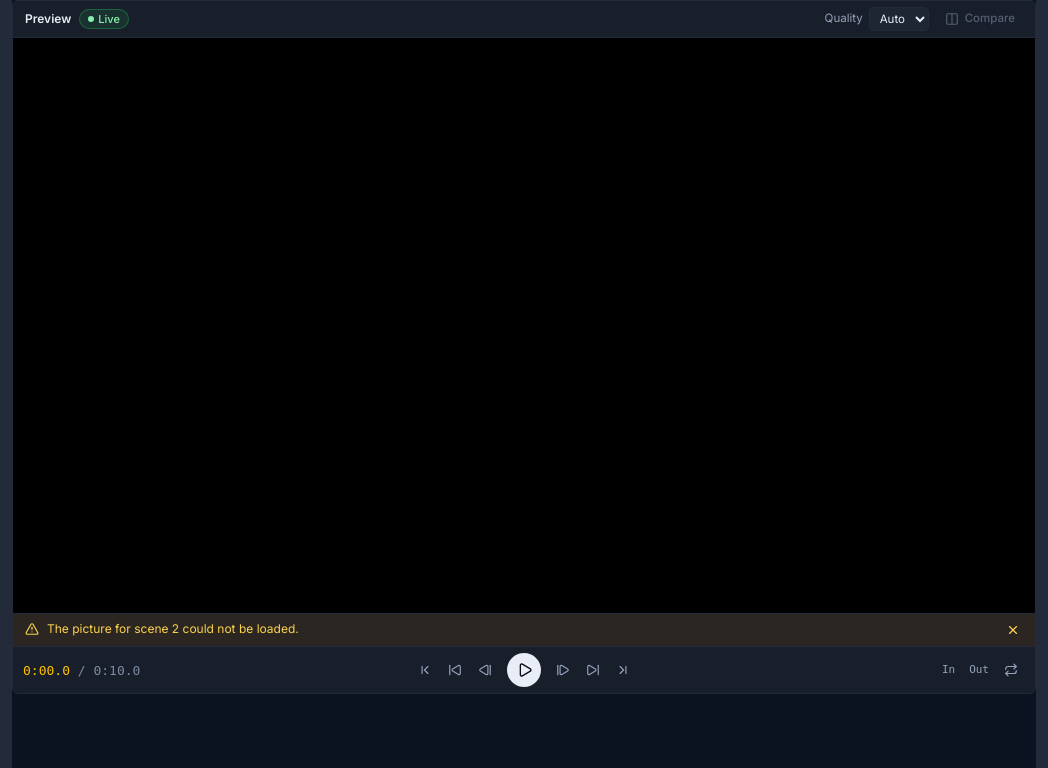
Test: LivePreview › shows a problem met while drawing under the picture, until it is hidden
This screenshot has width=1048, height=768.
Check: the message reads "The picture for scene 2 could not be loaded.", box [47, 621, 299, 636]
Check: the button named "Play" is enabled, box [507, 653, 541, 687]
What coordinates should you click on to do the following:
click the button named "Hide this message"
I would click on:
 (1013, 630)
Its box is [1003, 620, 1023, 640].
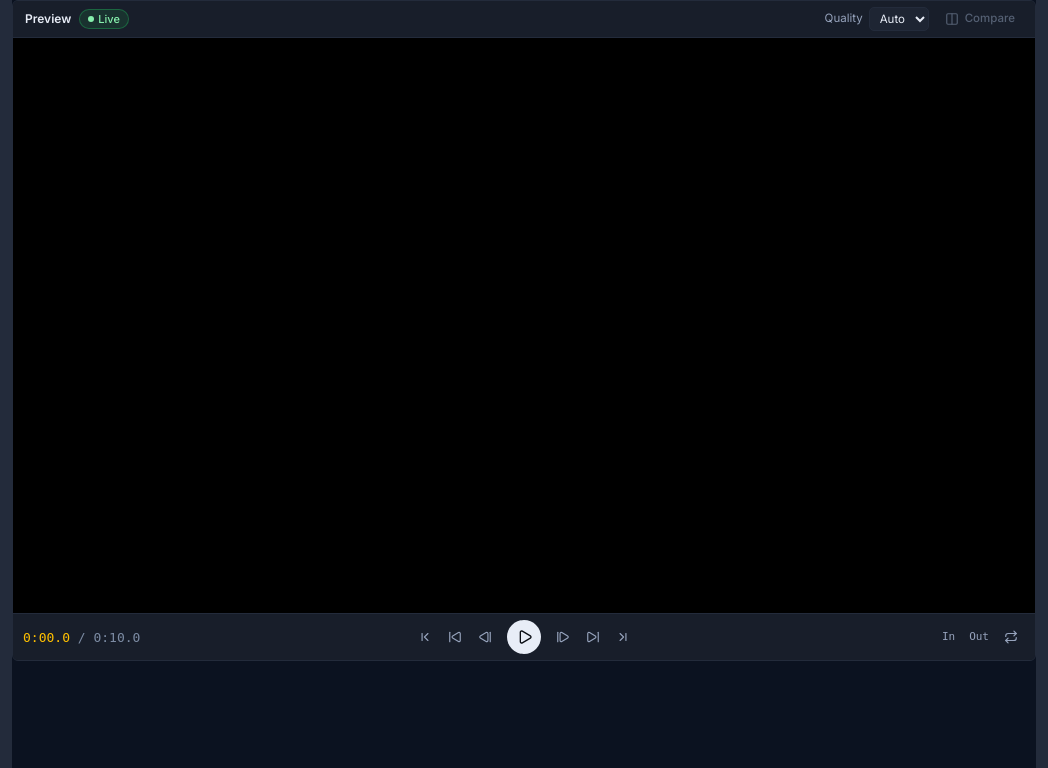
Check: the text "The picture for scene 2 could not be loaded." is gone
